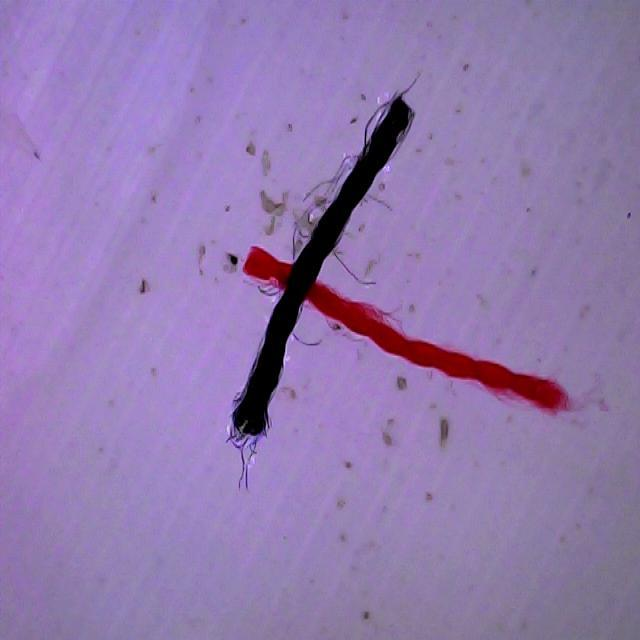fibers: (201, 81, 422, 487), (293, 279, 572, 427)
